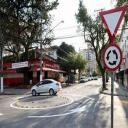Rotatoria: (103, 42, 124, 72)
preferencia: (97, 5, 128, 41)
